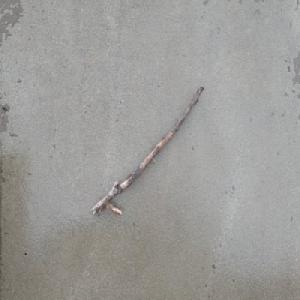Wood: (89, 83, 206, 217)
